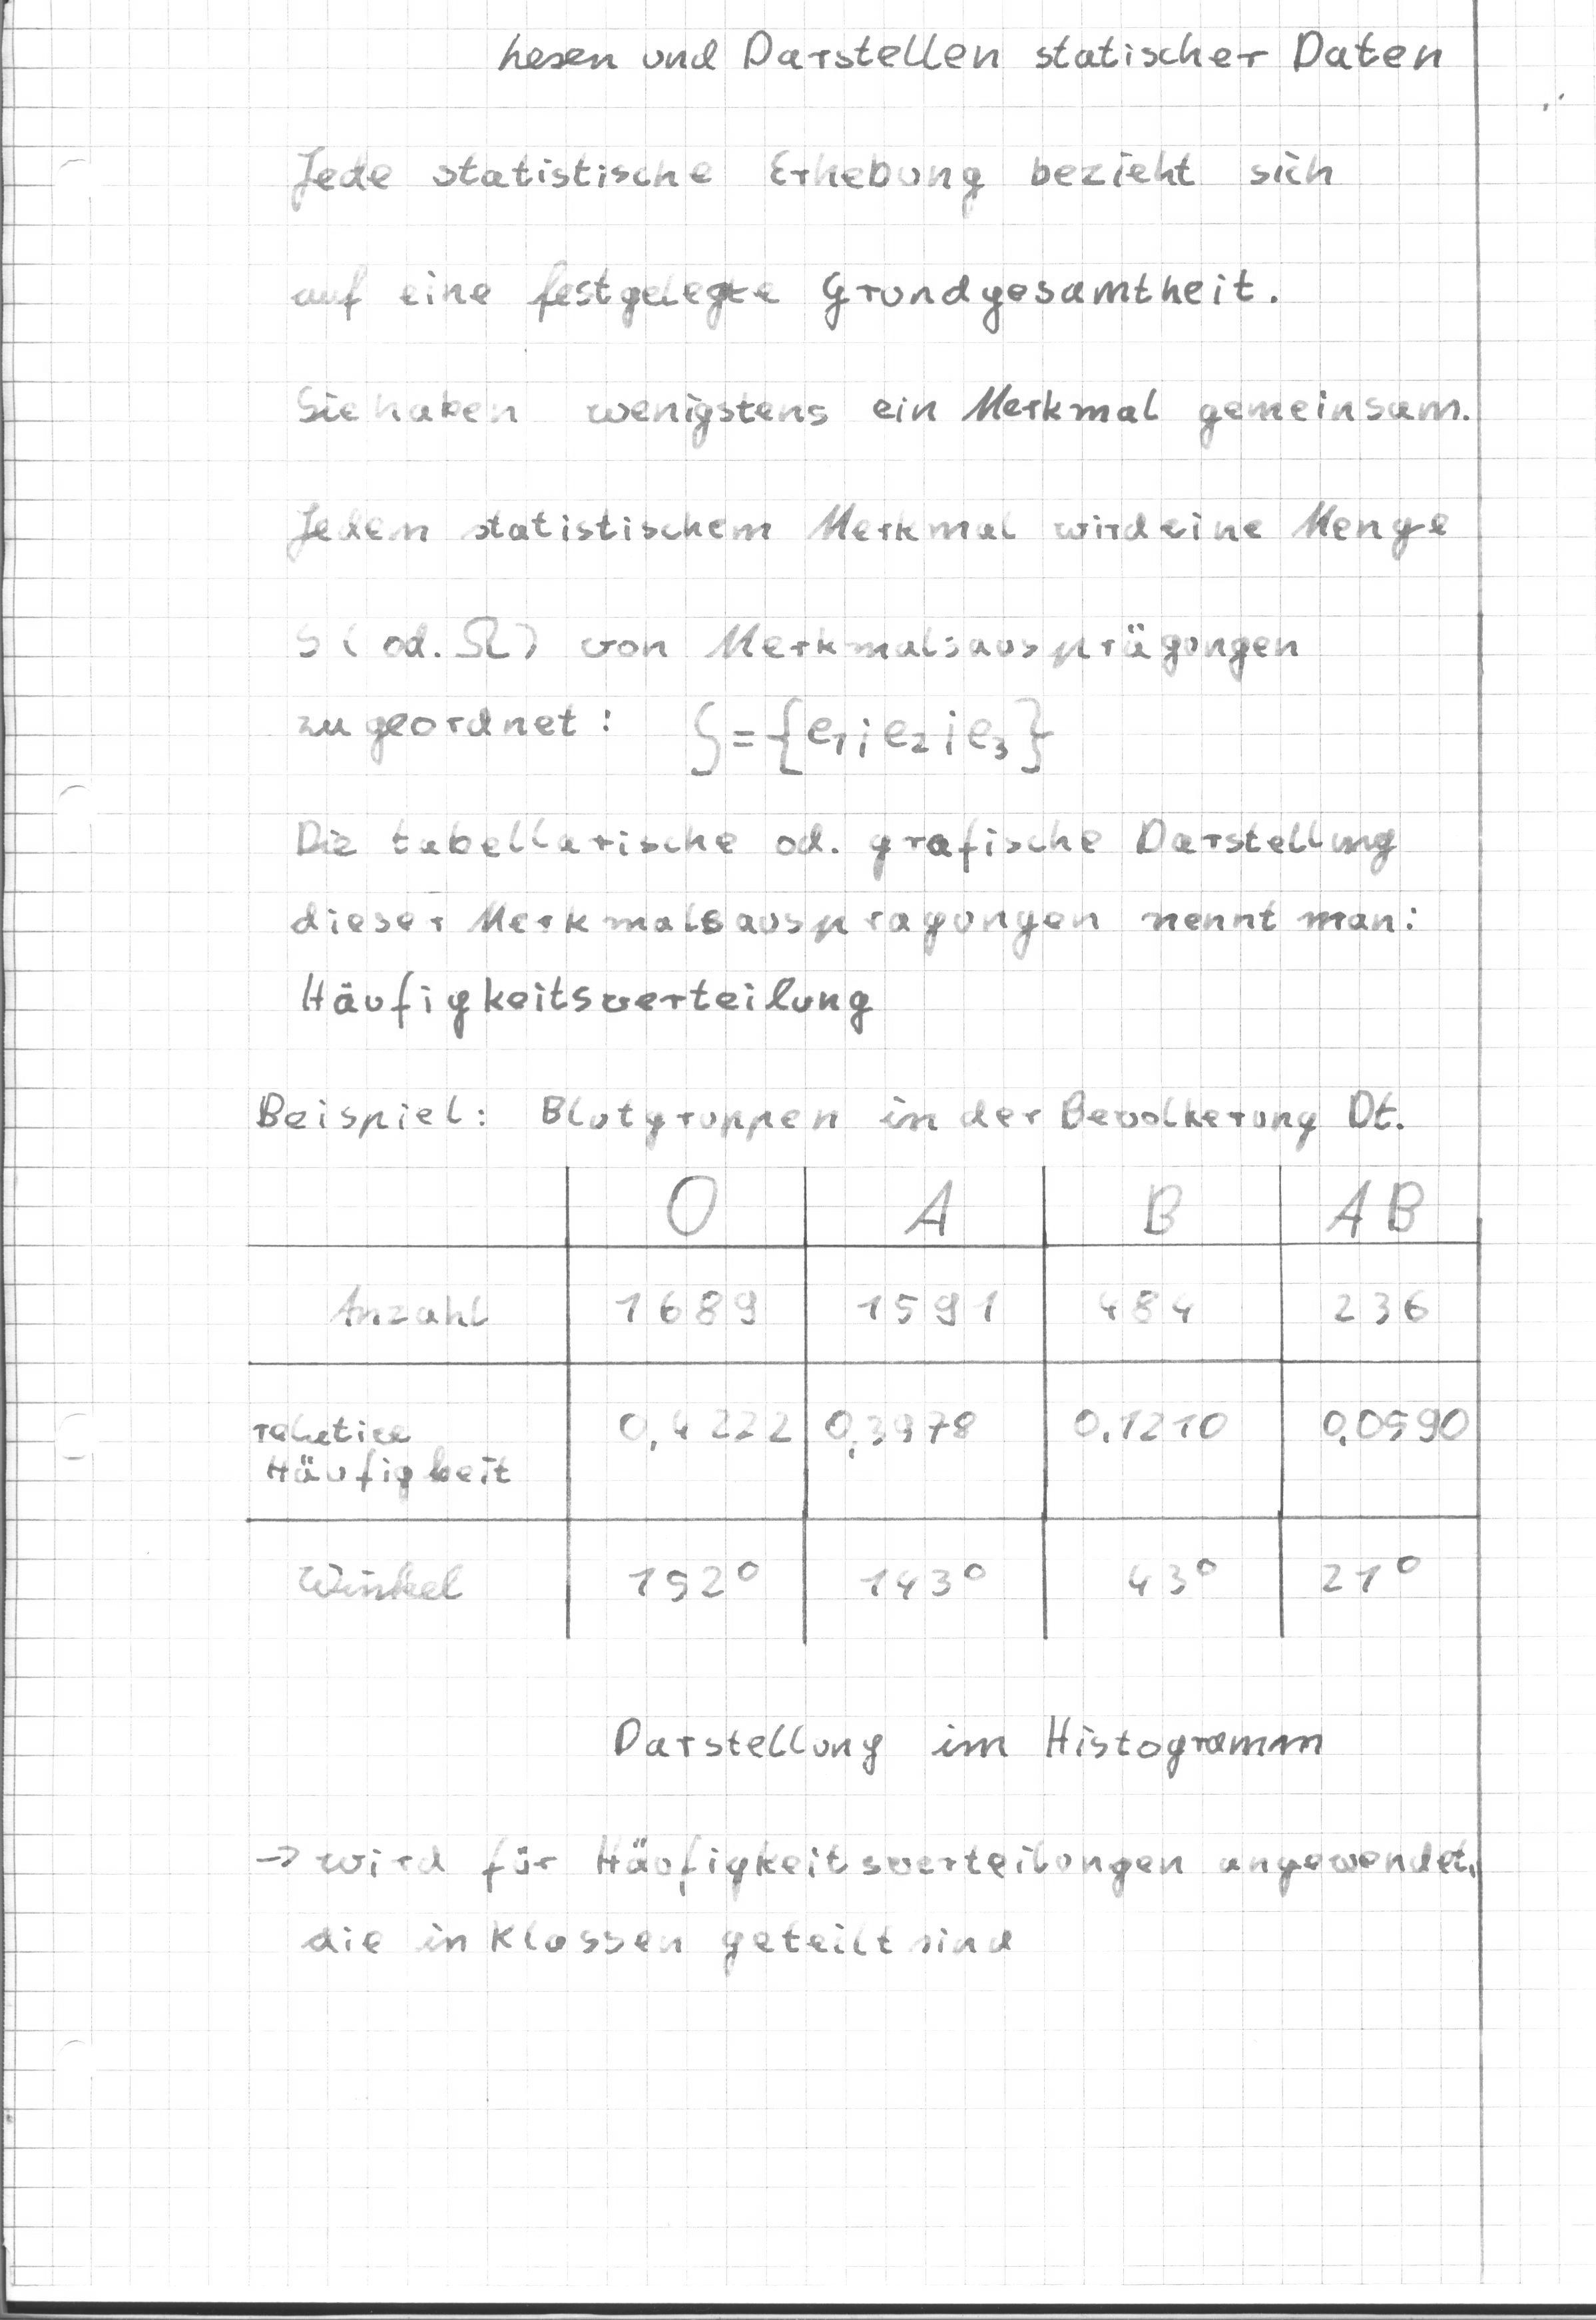word: (219, 1805, 1486, 1983), (268, 604, 1320, 797), (278, 802, 1433, 961), (241, 466, 1471, 582), (268, 350, 1483, 465), (245, 112, 1349, 226), (248, 240, 1297, 346), (514, 1069, 1410, 1144), (591, 1267, 818, 1469), (804, 1274, 1016, 1469), (1051, 1281, 1248, 1472), (1299, 1267, 1485, 1462), (240, 1391, 524, 1513), (308, 1260, 525, 1362), (838, 1528, 1023, 1643), (271, 1539, 489, 1633), (603, 1532, 789, 1625), (1105, 1521, 1250, 1631), (859, 1151, 995, 1264), (1300, 1157, 1449, 1256), (636, 1151, 762, 1267), (1304, 1532, 1440, 1626), (1119, 1157, 1225, 1257)
